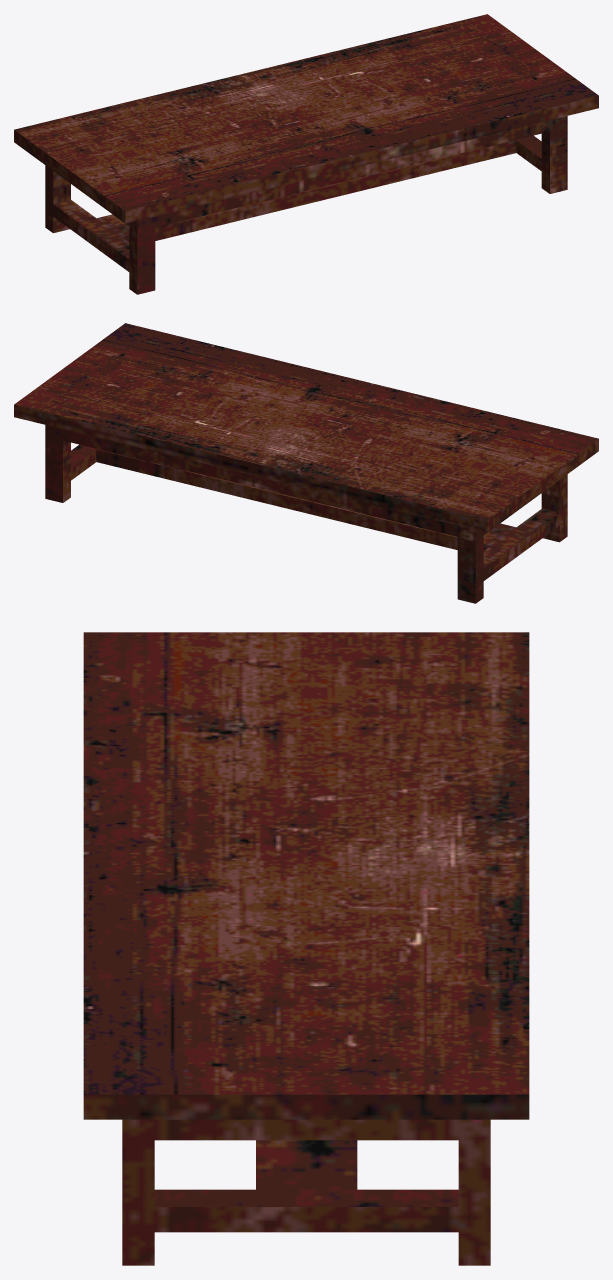
File: table.fbx
3 renders of one model, top to bottom at view 1: azimuth 30°, elevation 25°; view 2: azimuth 150°, elevation 25°; view 3: azimuth 270°, elevation 25°, orthographic. The views are drawn at different scales.
Visible parts, largest first — view 1: table; view 2: table; view 3: table.
Part boxes in pixels (x1,y1,x2,y2): table: (14, 14, 598, 294); table: (14, 323, 598, 603); table: (83, 632, 529, 1265).
Bounding box in the file's own units: 594 × 115 × 242.
